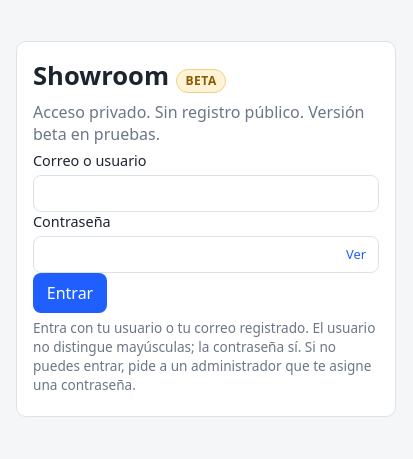
it: Login › muestra el error de credenciales
Type "will" into the field labelled "Correo o usuario" at (206,193), box [33,175,379,212]
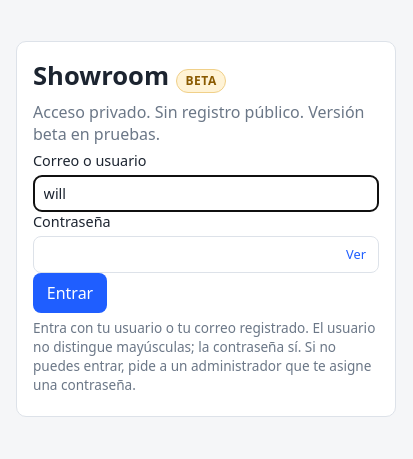
Type "incorrecta" into the password field labelled "Contraseña" at (206,254), box [33,236,379,272]
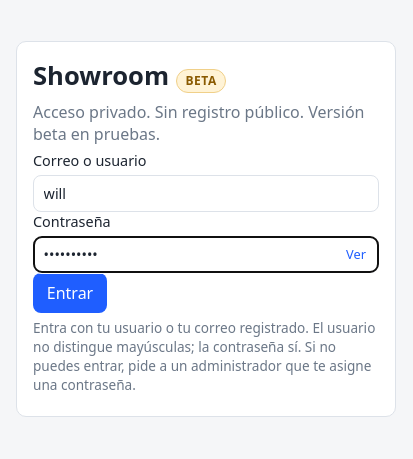
Click the button "Entrar" at (70,292), box [33,272,107,312]
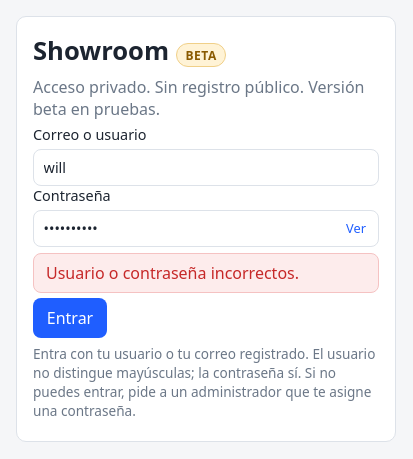
Check: the text "Usuario o contraseña incorrectos." is shown, box [33,252,379,292]
